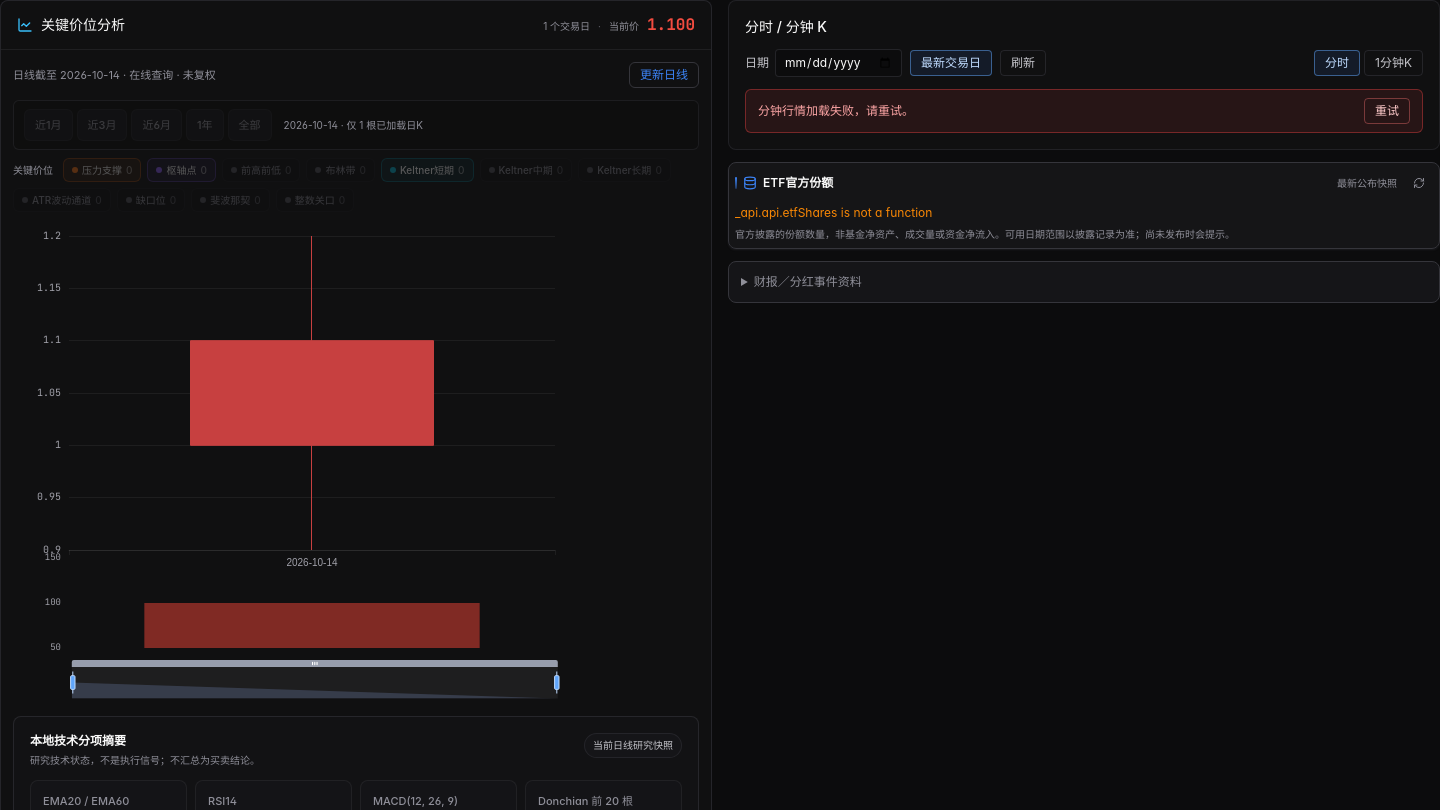
Test case: does not replace a newer online chart with an older local fallback
Click the button "更新日线" at (664, 75), box [629,62,699,88]
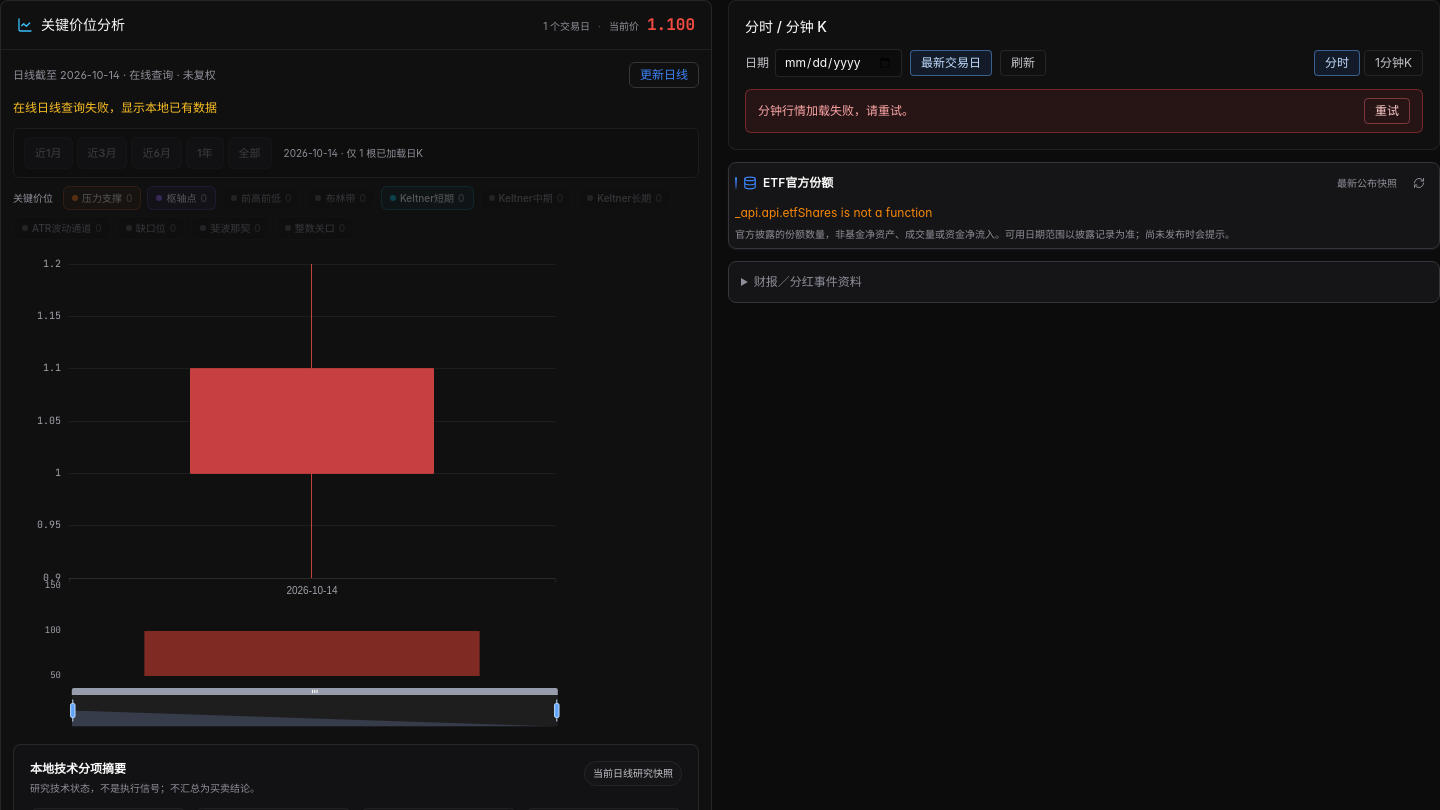
Expected: the text "日线截至 2026-10-14" is shown, [13,67,216,83]
Now the text "在线日线查询失败" is shown, box [13,100,217,115]
